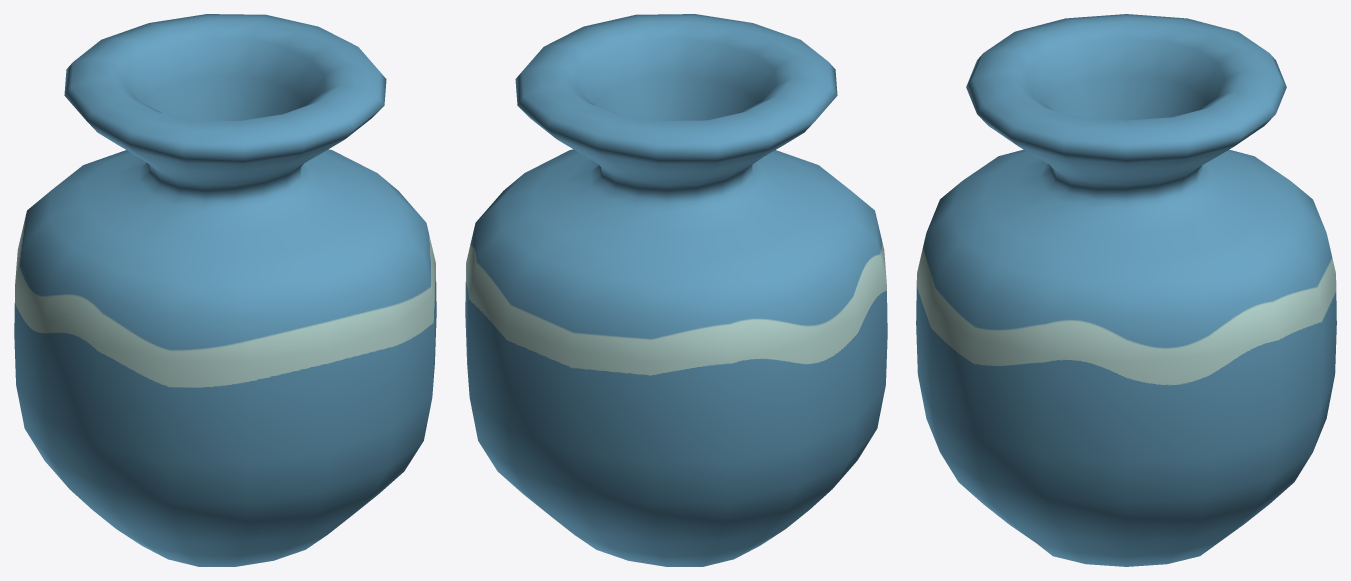
File: BlueVaseS.fbx
The picture shows the model from 3 angles, left to right: view 1: azimuth 30°, elevation 25°; view 2: azimuth 150°, elevation 25°; view 3: azimuth 270°, elevation 25°; orthographic projection.
Parts seen in each view (by area): view 1: Cube.007; view 2: Cube.007; view 3: Cube.007.
Part boxes in pixels (bbox=[...]): Cube.007: bbox=[14, 14, 436, 566]; Cube.007: bbox=[465, 14, 887, 566]; Cube.007: bbox=[916, 14, 1336, 566].
Bounding box in the file's own units: 182 × 219 × 182.
